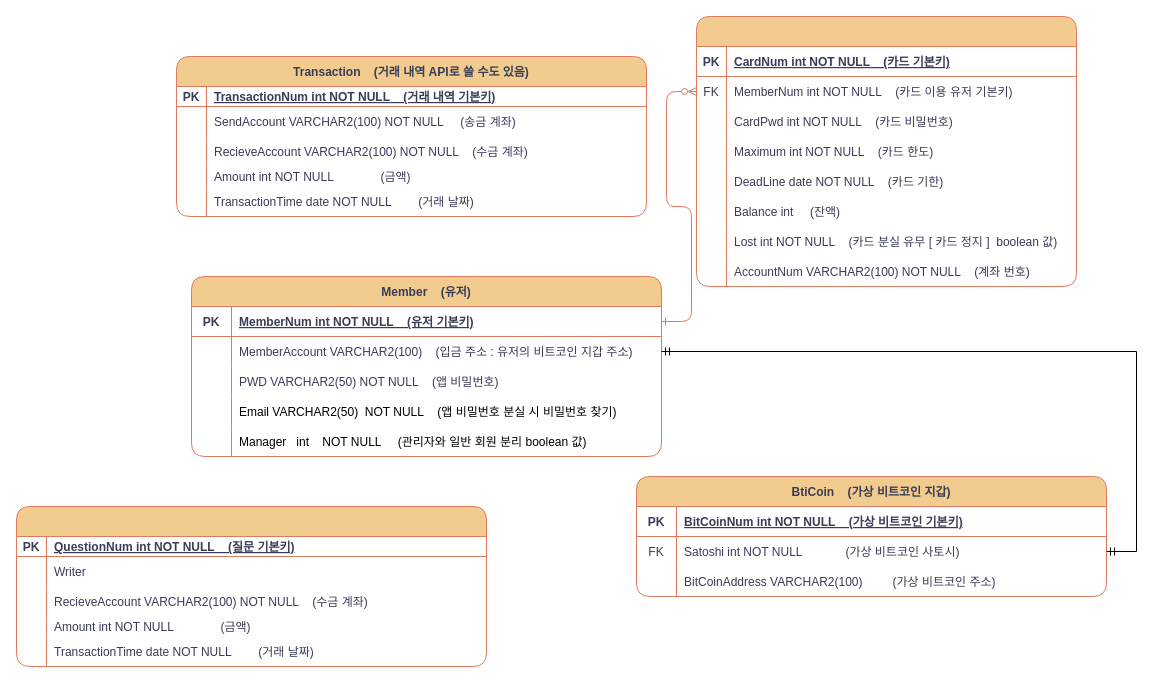
Some shapes in this 1153 by 683 pixel diagram are drawn without their labels. Each missing label, with the box of its shape:
Card (카드): (696, 16, 1076, 286)
Question (Q&A 질문): (16, 506, 486, 666)
